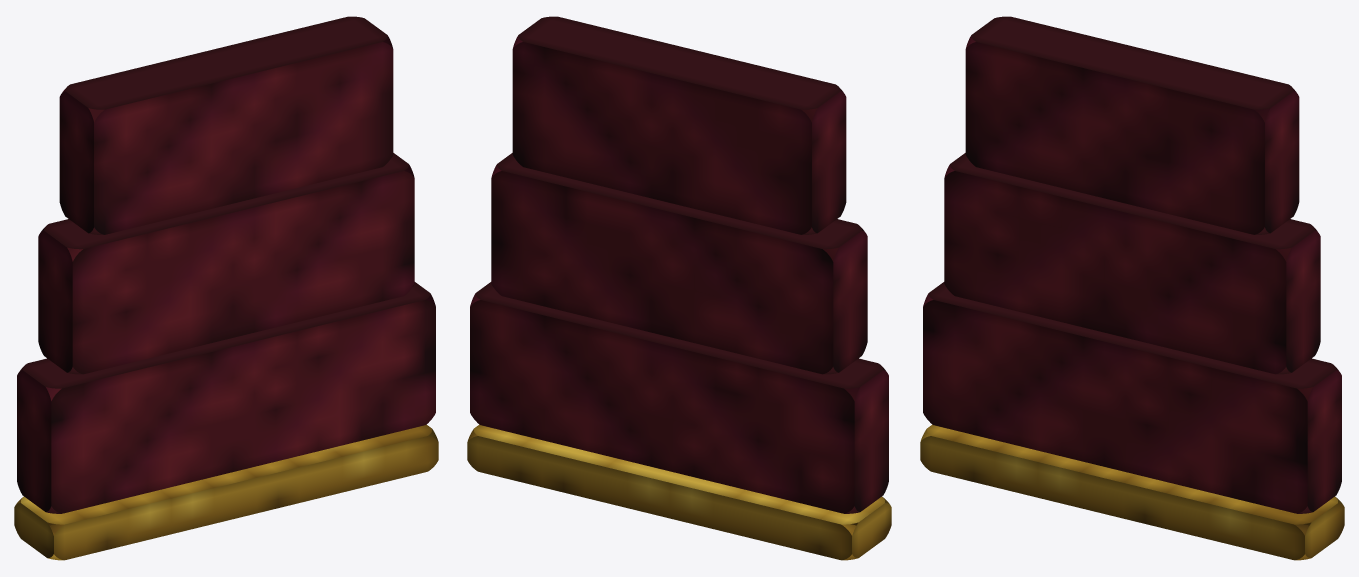
File: blood_velvet.obj
3 renders of one model, left to right at view 1: azimuth 30°, elevation 25°; view 2: azimuth 150°, elevation 25°; view 3: azimuth 330°, elevation 25°, orthographic.
Parts seen in each view (by area): view 1: lit; view 2: lit; view 3: lit.
Boxes of the visible parts, x1,y1,x2,y2 form: lit: [14, 16, 438, 560]; lit: [467, 16, 891, 560]; lit: [920, 16, 1344, 560].
Size of the model in its own units: 0.5625 by 0.6125 by 0.1.
